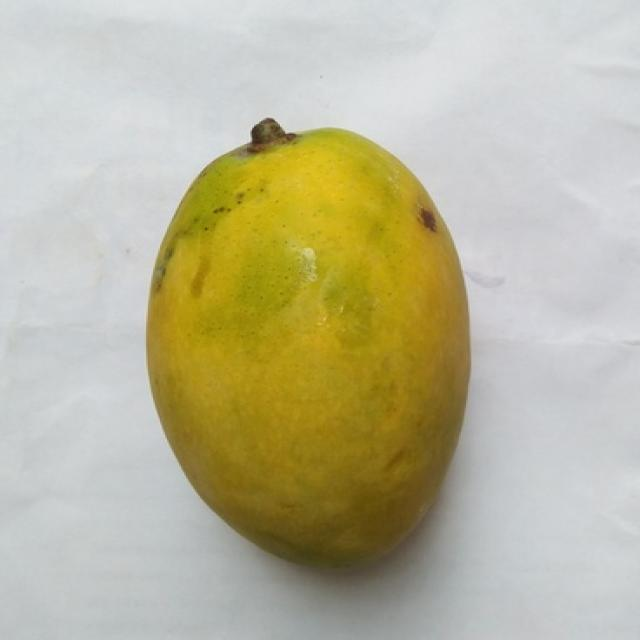Mango: (146, 120, 468, 563)
